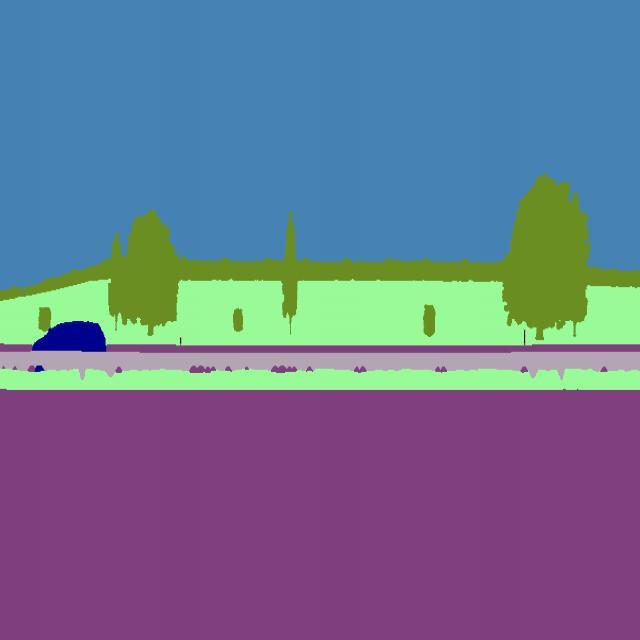safe: (29, 312, 110, 356)
